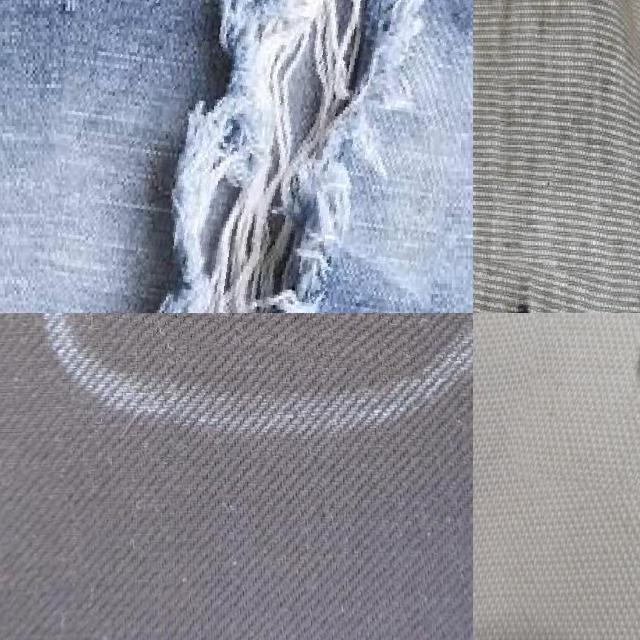other: (35, 0, 467, 313), (473, 261, 598, 313)
stains: (523, 313, 640, 502), (104, 313, 439, 368)
